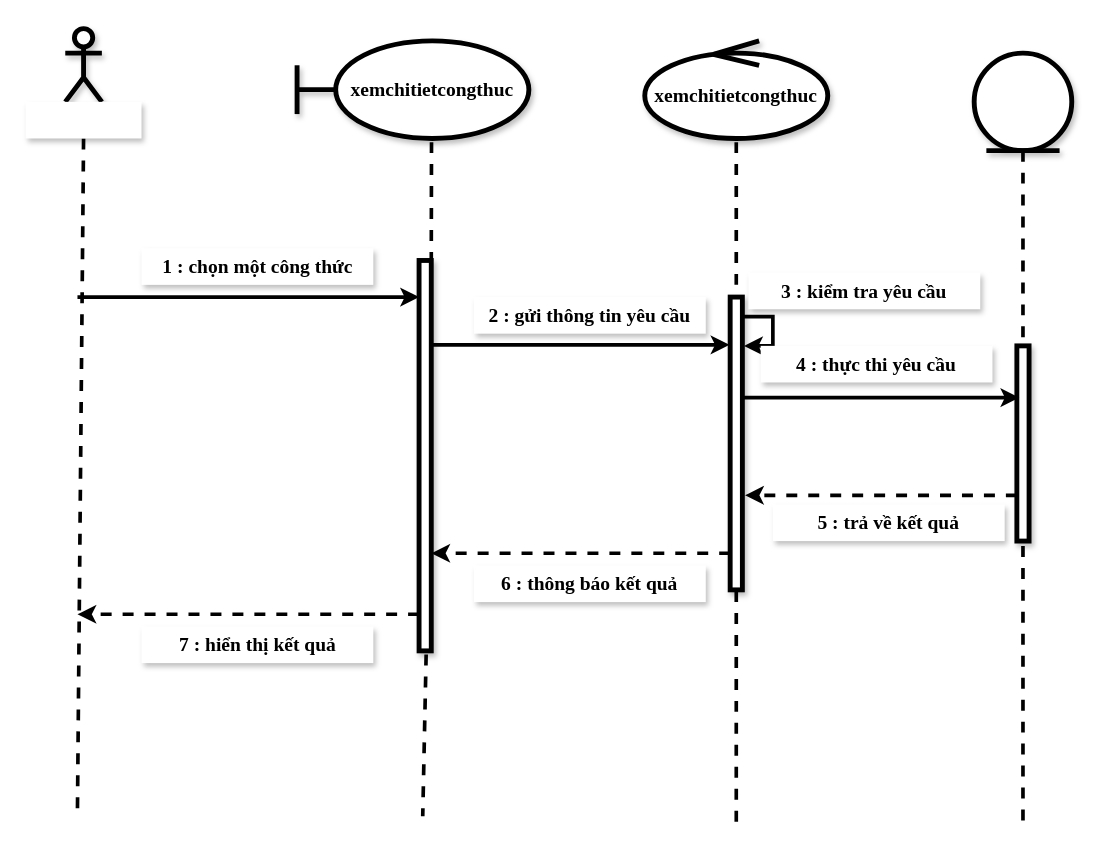
Some shapes in this 1103 by 845 pixel diagram are drawn without their labels. Each missing label, with the centre of its shape:
"Actor" belongs at (x=84, y=66).
"csdl" belongs at (x=1023, y=103).
"khachhang" belongs at (x=84, y=121).
